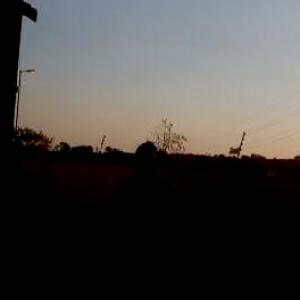follow: (103, 134, 178, 299)
